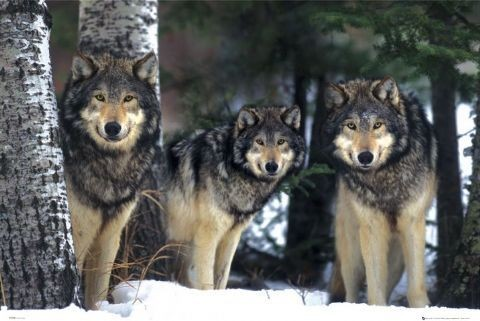wolf: (140, 106, 311, 292), (57, 56, 161, 302), (331, 88, 434, 307)
